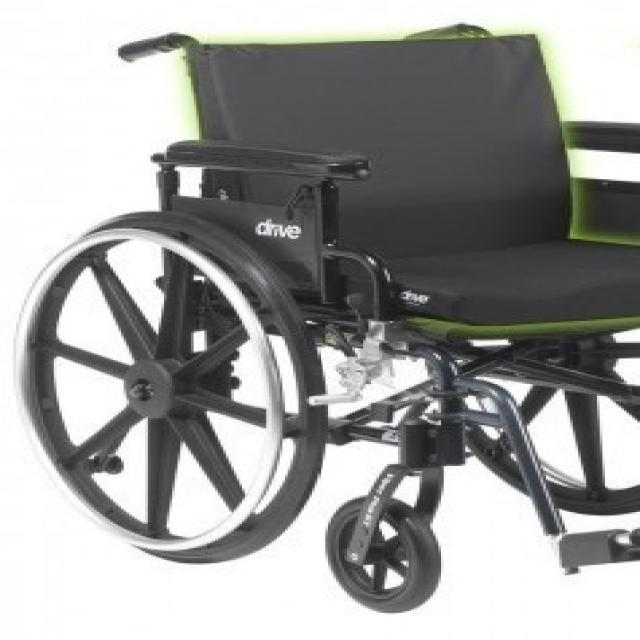wheelchair: (4, 17, 640, 621)
